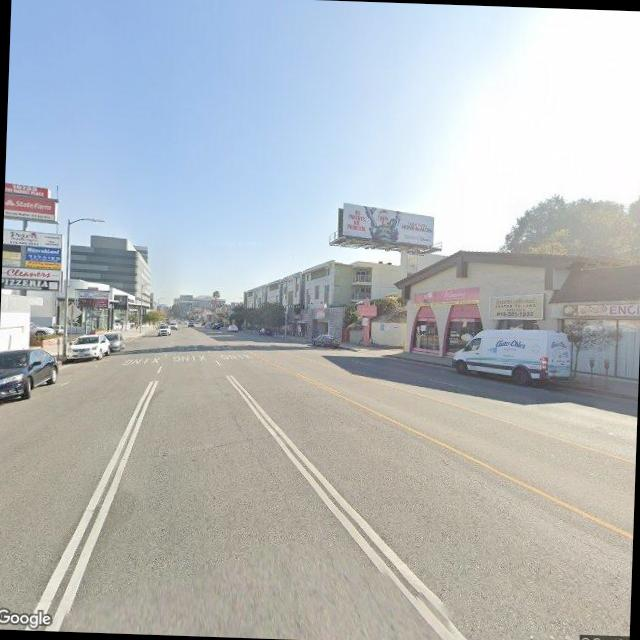crack: (121, 434, 248, 464)
